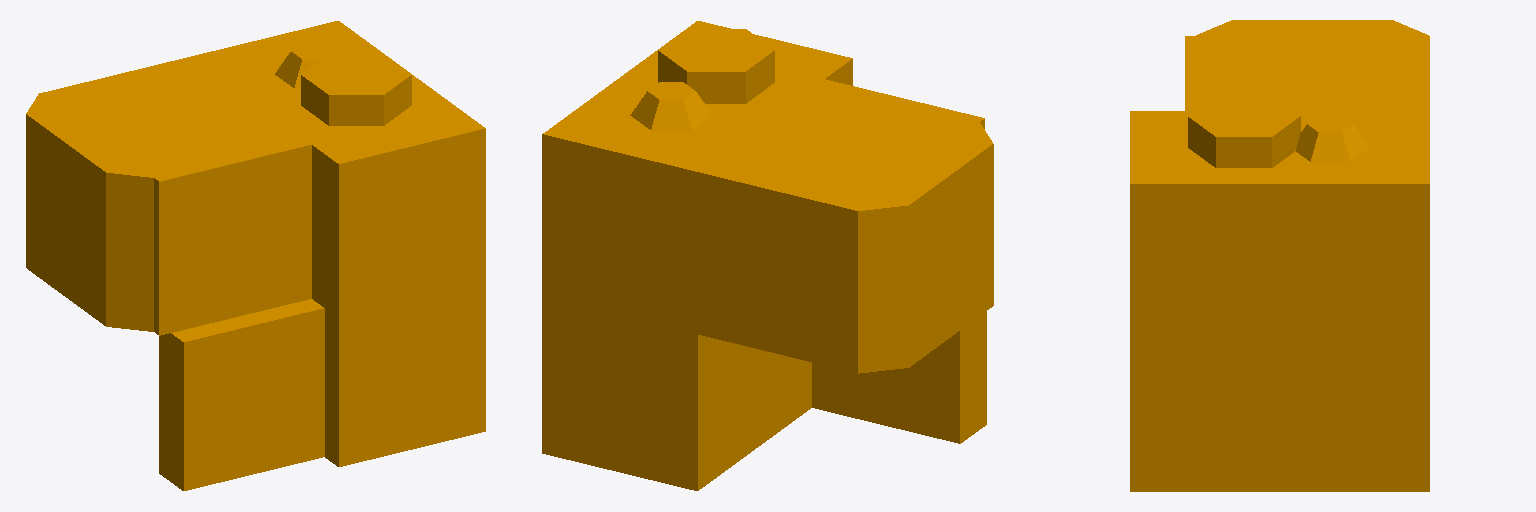
The robot description file, URDF, robot "scaffolding_v3_right":
<?xml version="1.0"?>
<!--
  Scaffolding tool v3, right-hand version, for display and collision checking.
  Stitched onto <arm>_tool0 when the monitor loads a robot: the root link sits
  exactly on tool0 (tool_urdfs.py). The mesh is the one exported from the
  planning cell (scripts/export_tool_mesh_from_cell.py), in millimetres, hence
  the scale. Mesh paths are relative to this file.
-->
<robot name="scaffolding_v3_right">
  <link name="scaffolding_v3_right">
    <visual>
      <geometry><mesh filename="../assembly_tool_v3_right_mm_from_cell.obj" scale="0.001 0.001 0.001"/></geometry>
    </visual>
    <collision>
      <geometry><mesh filename="../assembly_tool_v3_right_mm_from_cell.obj" scale="0.001 0.001 0.001"/></geometry>
    </collision>
  </link>
</robot>

--- Facts derived from the render (not from the file) ---
3 views of the same robot in one strip: view 1: azimuth 30°, elevation 25°; view 2: azimuth 150°, elevation 25°; view 3: azimuth 270°, elevation 25° (orthographic).
Model scaffolding_v3_right with 1 links and 0 joints (none), rooted at scaffolding_v3_right, posed every joint at zero.
Links seen in each view (by area): view 1: scaffolding_v3_right; view 2: scaffolding_v3_right; view 3: scaffolding_v3_right.
Link boxes in pixels (bbox=[...]): scaffolding_v3_right: bbox=[26, 21, 485, 490]; scaffolding_v3_right: bbox=[542, 21, 993, 490]; scaffolding_v3_right: bbox=[1130, 20, 1429, 491].
Size in the robot's own frame: 0.1345 by 0.104 by 0.13 metres.
1 mesh visuals loaded from 1 distinct referenced files (1 OBJ).
